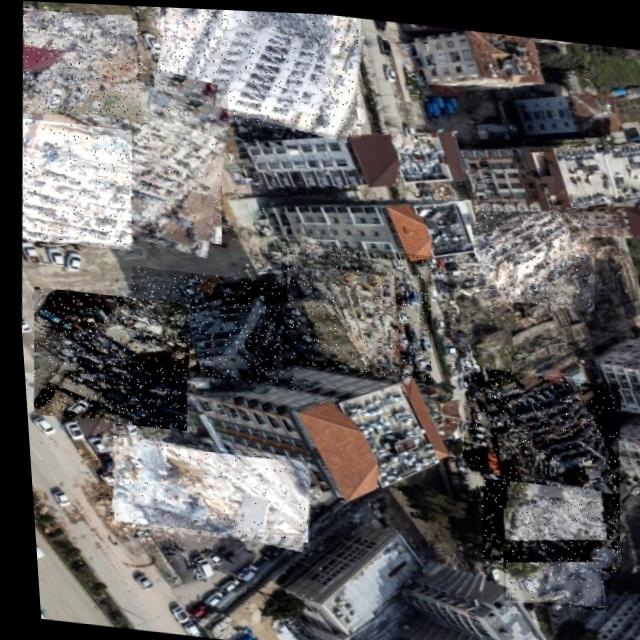Rubble: (9, 59, 235, 251), (148, 5, 365, 134), (19, 286, 189, 429), (99, 434, 308, 545), (268, 236, 433, 376), (119, 264, 294, 386), (450, 361, 619, 486), (11, 118, 135, 250), (14, 5, 144, 122), (467, 469, 616, 568), (464, 197, 595, 306), (488, 494, 601, 605)
